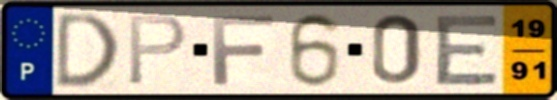0: (369, 11, 426, 88)
6: (285, 10, 345, 89)
D: (52, 10, 122, 91)
E: (432, 11, 502, 88)
F: (209, 13, 277, 87)
P: (126, 13, 190, 88)
